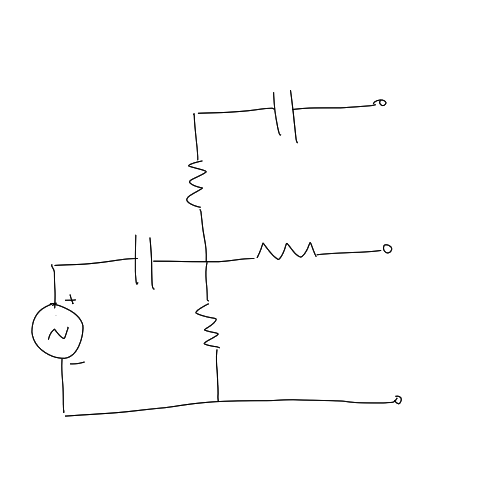acvs: (26, 294, 94, 367)
cap: (268, 83, 303, 143), (131, 228, 158, 296)
probe: (373, 94, 392, 112), (377, 238, 396, 256), (385, 391, 405, 407)
res: (251, 237, 327, 266), (192, 292, 228, 352), (183, 148, 211, 215)
